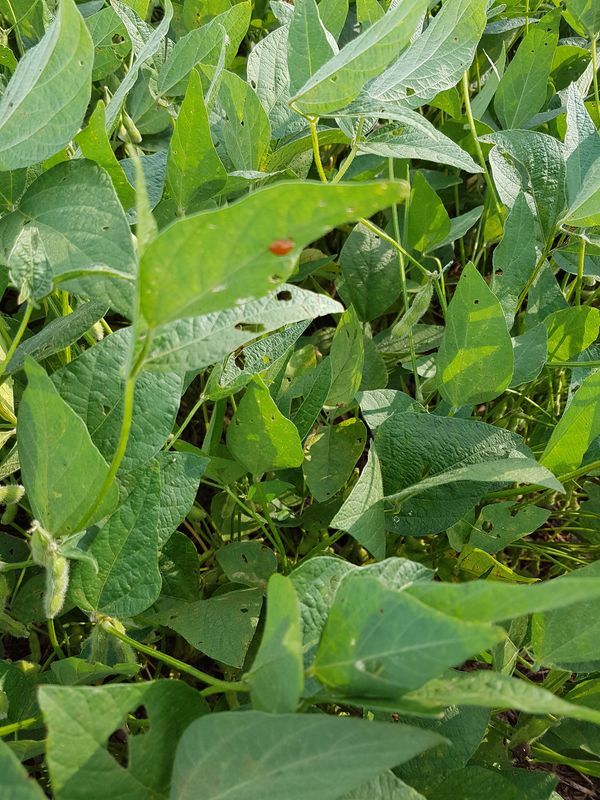Coccinellidae: (262, 231, 301, 264)
